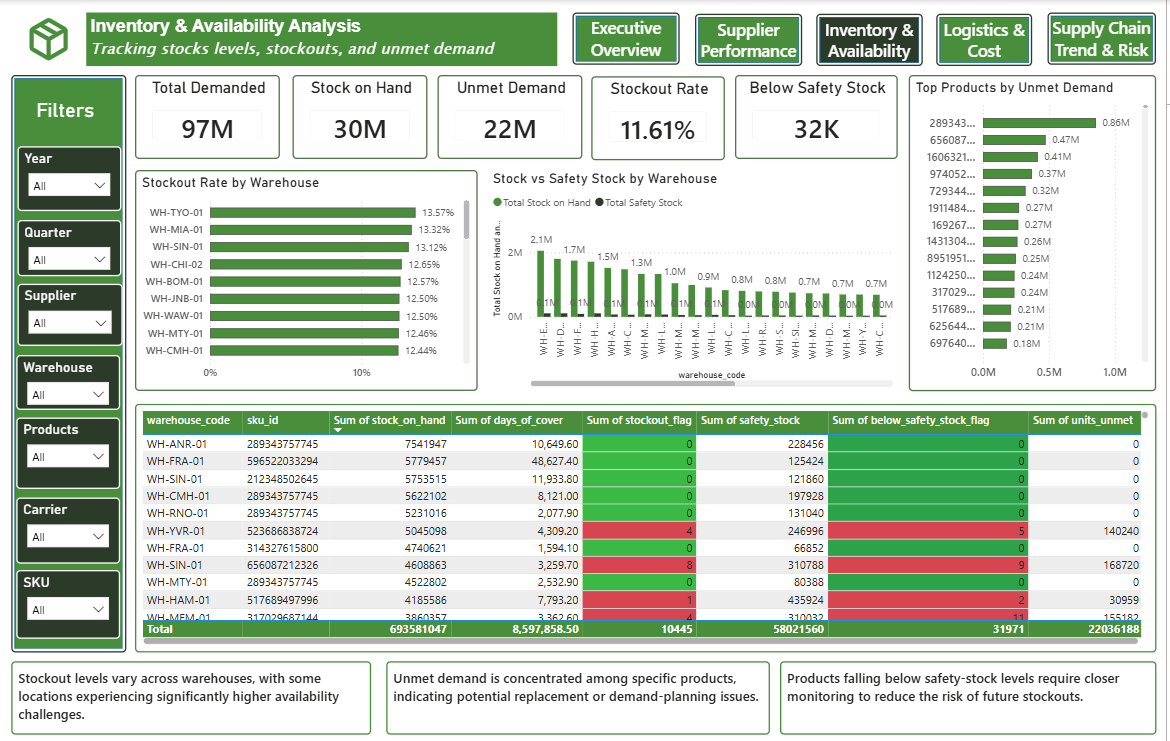

The page's visual inventory and layout, read from the dashboard file:
{"tool":"powerbi","page":{"name":"Inventory & Availability","canvas":[1410,900],"ordinal":2},"visuals":[{"type":"cardVisual","title":"Total Demanded","fields":{"Data":["KPIs meansure.Total Unit Demanded"]},"box":[163.3,90.7,175.3,101.3],"z":0},{"type":"cardVisual","title":"Unmet Demand","fields":{"Data":["KPIs meansure.Unmet Demand"]},"box":[529.1,90.7,175.3,101.3],"z":1000},{"type":"cardVisual","title":"Stock on Hand","fields":{"Data":["KPIs meansure.Total Stock on Hand"]},"box":[353.7,90.7,163.3,101.3],"z":2000},{"type":"cardVisual","title":"Below Safety Stock","fields":{"Data":["KPIs meansure.Below Safety Stock"]},"box":[888.8,90.7,196.5,101.3],"z":3000},{"type":"cardVisual","title":"Stockout Rate","fields":{"Data":["KPIs meansure.Stockout rate"]},"box":[715,92.2,161.7,101.3],"z":4000},{"type":"shape","box":[13.6,90.7,139.1,698.4],"z":5000},{"type":"slicer","title":"Year","fields":{"Values":["tblDate.year"]},"box":[21.2,176.9,125.5,78.6],"z":6000},{"type":"slicer","title":"Supplier","fields":{"Values":["tblSuppliers.supplier_name"]},"box":[21.2,343.1,127,75.6],"z":7000},{"type":"slicer","title":"Warehouse","fields":{"Values":["tblInventory_monthly.warehouse_code"]},"box":[19.7,428.5,125.5,66.5],"z":8000},{"type":"slicer","title":"Products","fields":{"Values":["tblProducts.product_category"]},"box":[19.7,504.9,125.5,86.2],"z":9000},{"type":"slicer","title":"Carrier","fields":{"Values":["tblShipments.carrier_id"]},"box":[19.7,600.9,125.5,80.1],"z":10000},{"type":"slicer","title":"SKU","fields":{"Values":["tblInventory_monthly.sku_id"]},"box":[19.7,689.3,125.5,83.1],"z":11000},{"type":"slicer","title":"Quarter","fields":{"Values":["tblDate.quarter"]},"box":[21.2,265.3,125.5,68],"z":12000},{"type":"textbox","box":[104.3,15.1,569.9,65],"z":13000},{"type":"shape","box":[692.3,15.1,130,63.5],"z":14000},{"type":"shape","box":[839.7,16.6,130,63.5],"z":15000},{"type":"shape","box":[987.1,16.6,128.5,63.5],"z":16000},{"type":"shape","box":[1132.9,16.6,116.4,63.5],"z":17000},{"type":"shape","box":[1266.7,15.1,131.5,63.5],"z":18000},{"type":"shape","box":[19.7,102.8,123.9,60.5],"z":19000},{"type":"clusteredBarChart","title":"Stockout Rate by Warehouse","fields":{"Category":["tblInventory_monthly.warehouse_code"],"Y":["KPIs meansure.Stockout rate"]},"box":[163.3,205.6,414.2,267.6],"z":20000},{"type":"barChart","title":"Top Products by Unmet Demand","fields":{"Category":["tblInventory_monthly.sku_id"],"Y":["KPIs meansure.Unmet Demand"]},"box":[1098.9,90.7,299.3,382.4],"z":21000},{"type":"clusteredColumnChart","title":"Stock vs Safety Stock by Warehouse","fields":{"Category":["tblInventory_monthly.warehouse_code"],"Y":["KPIs meansure.Total Stock on Hand","KPIs meansure.Total Safety Stock"]},"box":[591,205.6,494.3,267.6],"z":22000},{"type":"tableEx","fields":{"Values":["tblInventory_monthly.warehouse_code","tblInventory_monthly.sku_id","Sum(tblInventory_monthly.stock_on_hand)","Sum(tblInventory_monthly.days_of_cover)","Sum(tblInventory_monthly.stockout_flag)","Sum(tblInventory_monthly.safety_stock)","Sum(tblInventory_monthly.below_safety_stock_flag)","Sum(tblInventory_monthly.units_unmet)"]},"box":[163.3,488.2,1235,300.8],"z":23000},{"type":"textbox","box":[13.6,799.6,435.3,89.2],"z":24000},{"type":"textbox","box":[467.1,799.6,464.1,89.2],"z":25000},{"type":"textbox","box":[943.2,799.6,455,89.2],"z":26000},{"type":"image","box":[13.6,16.6,90.7,62],"z":27000}]}

Visuals, with their boxes in screenshot pixels (x1, y1, x2, y2), scaled from the page's 1410x900 canvas onto the 1170x741 screenshot:
"Total Demanded" cardVisual: (136,75,281,158)
"Unmet Demand" cardVisual: (439,75,585,158)
"Stock on Hand" cardVisual: (293,75,429,158)
"Below Safety Stock" cardVisual: (738,75,901,158)
"Stockout Rate" cardVisual: (593,76,727,159)
shape: (11,75,127,650)
"Year" slicer: (18,146,122,210)
"Supplier" slicer: (18,282,123,345)
"Warehouse" slicer: (16,353,120,408)
"Products" slicer: (16,416,120,487)
"Carrier" slicer: (16,495,120,561)
"SKU" slicer: (16,568,120,636)
"Quarter" slicer: (18,218,122,274)
textbox: (87,12,559,66)
shape: (574,12,682,65)
shape: (697,14,805,66)
shape: (819,14,926,66)
shape: (940,14,1037,66)
shape: (1051,12,1160,65)
shape: (16,85,119,134)
"Stockout Rate by Warehouse" clusteredBarChart: (136,169,479,390)
"Top Products by Unmet Demand" barChart: (912,75,1160,390)
"Stock vs Safety Stock by Warehouse" clusteredColumnChart: (490,169,901,390)
tableEx - tblInventory_monthly.warehouse_code x tblInventory_monthly.sku_id: (136,402,1160,650)
textbox: (11,658,372,732)
textbox: (388,658,773,732)
textbox: (783,658,1160,732)
image: (11,14,87,65)
